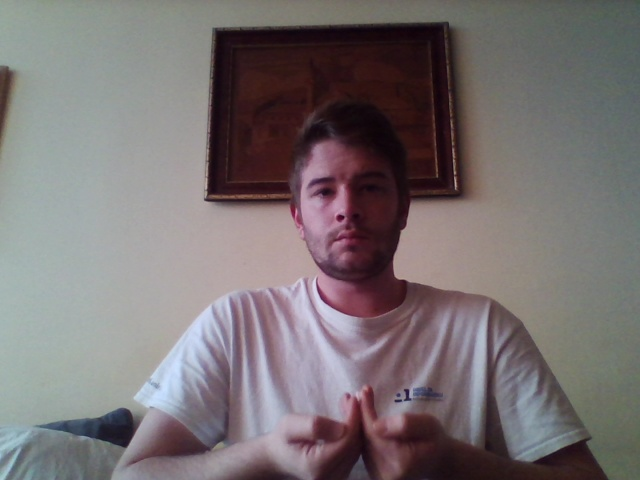kako: (263, 384, 467, 479)
